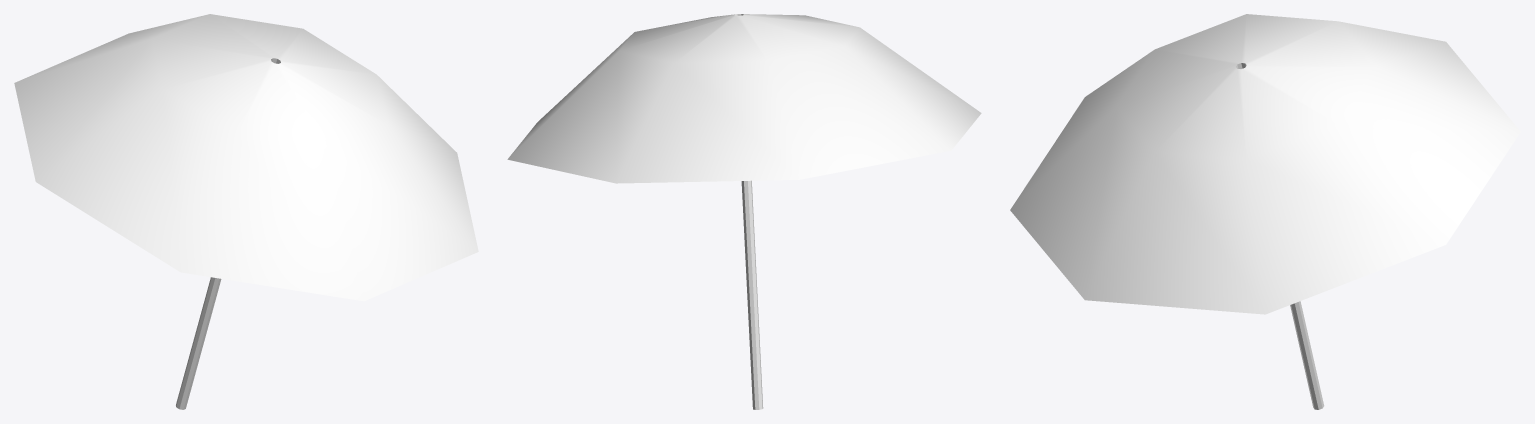
File: Umbrella.fbx
3 renders of one model, left to right at view 1: azimuth 30°, elevation 25°; view 2: azimuth 150°, elevation 25°; view 3: azimuth 270°, elevation 25°, orthographic. The views are drawn at different scales.
Parts seen in each view (by area): view 1: Cylinder; view 2: Cylinder; view 3: Cylinder.
Boxes of the visible parts, box(x1,y1,x2,y2) form: Cylinder: box(14, 14, 478, 409); Cylinder: box(507, 14, 981, 409); Cylinder: box(1010, 14, 1520, 409).
Bounding box in the file's own units: 8.77 × 7.29 × 8.96.
